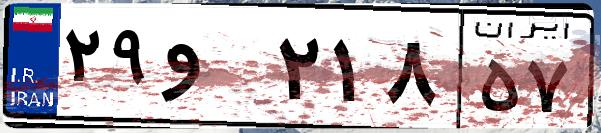1: (330, 28, 385, 110)
2: (270, 28, 330, 110), (57, 26, 110, 100)
5: (475, 38, 525, 113)
7: (525, 38, 570, 115)
8: (385, 28, 445, 110)
9: (110, 28, 158, 98)
و: (158, 20, 270, 120)
